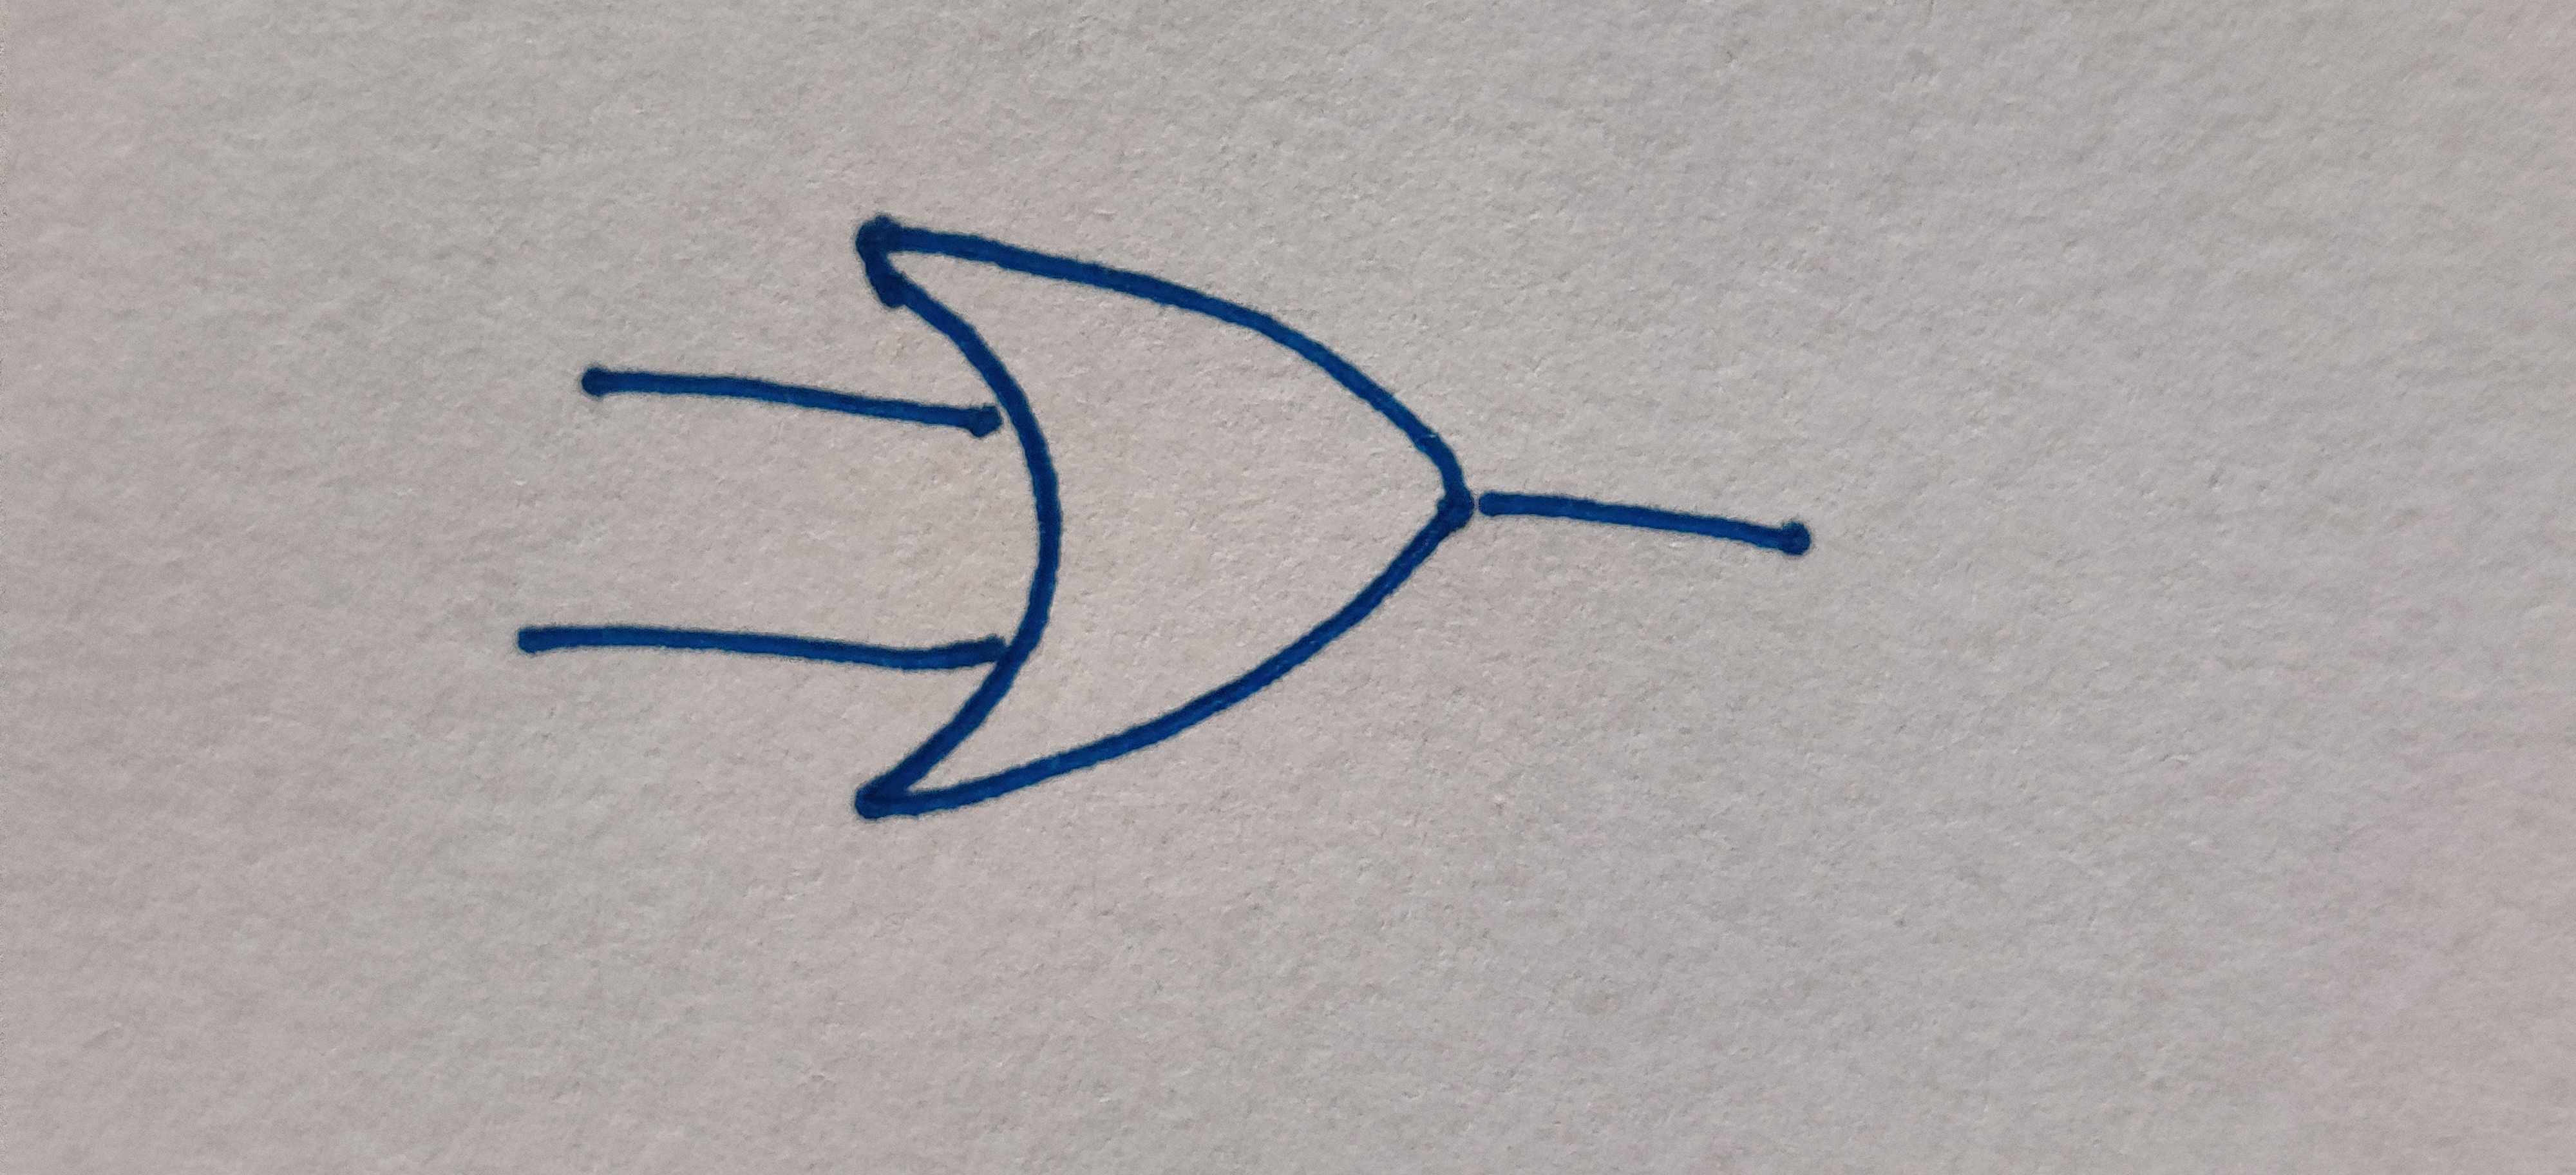or: (854, 219, 1467, 823)
